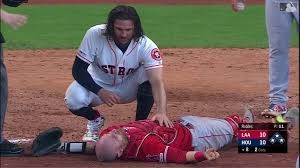falling: (71, 106, 260, 166)
